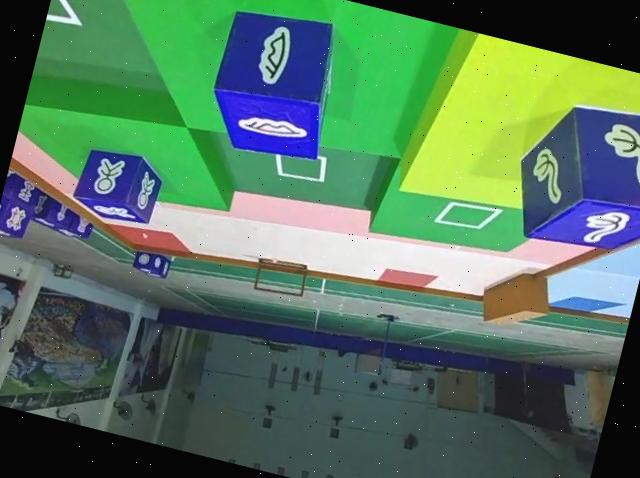R2 Real Blue: (197, 0, 350, 167), (502, 80, 640, 262), (67, 136, 168, 226), (0, 170, 40, 244)
